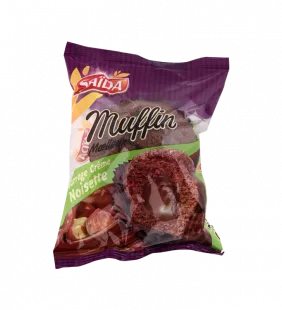SAIDA: (45, 37, 236, 275)
